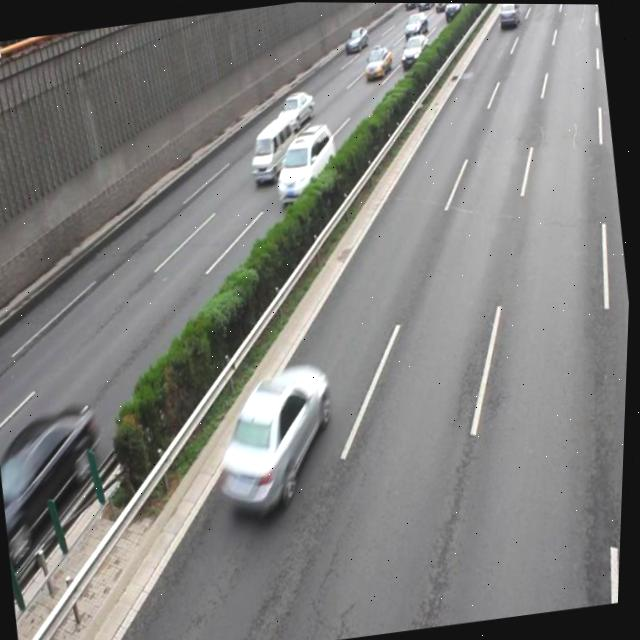car: (208, 357, 346, 518), (0, 399, 115, 564), (272, 88, 317, 131)
truck: (270, 121, 343, 203), (247, 115, 301, 186)
